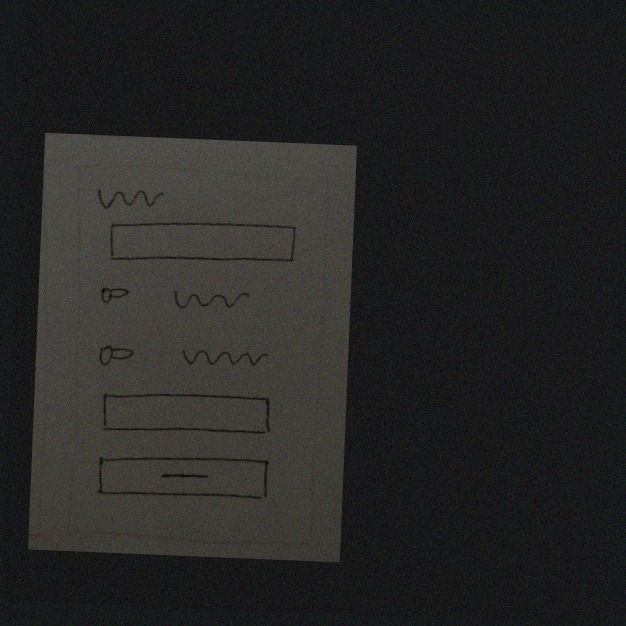button: (88, 447, 275, 510)
switch: (88, 336, 140, 373), (95, 275, 134, 309)
text: (172, 339, 271, 379), (166, 283, 255, 315), (94, 182, 168, 212)
text_input: (103, 215, 304, 272), (96, 384, 278, 442)
